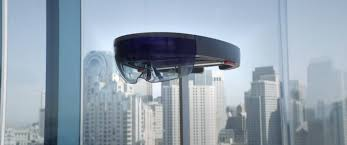hololens: (110, 29, 241, 88)
